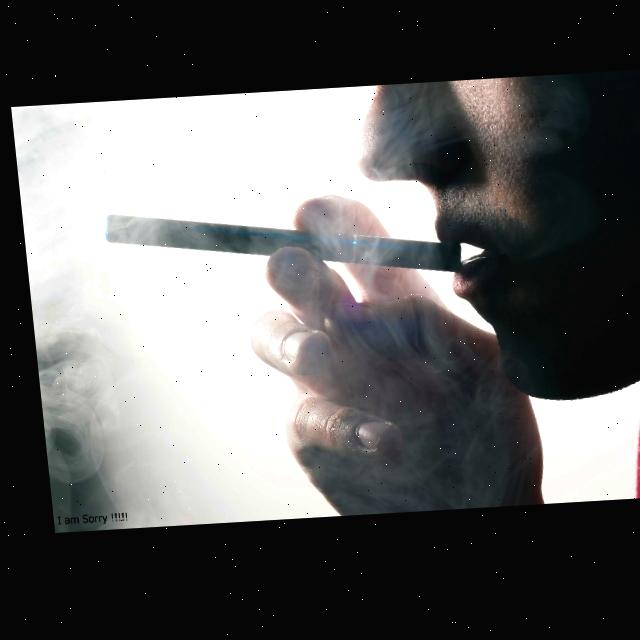vape: (98, 199, 458, 293)
